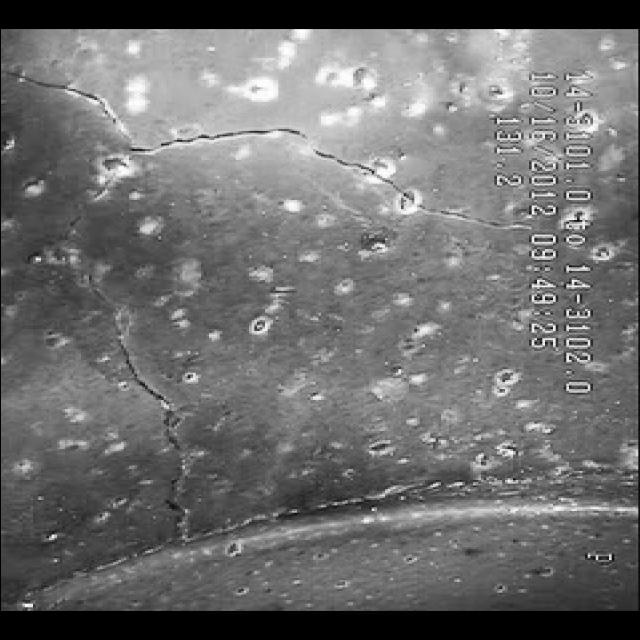Crack: (29, 87, 230, 530), (254, 116, 484, 238)
